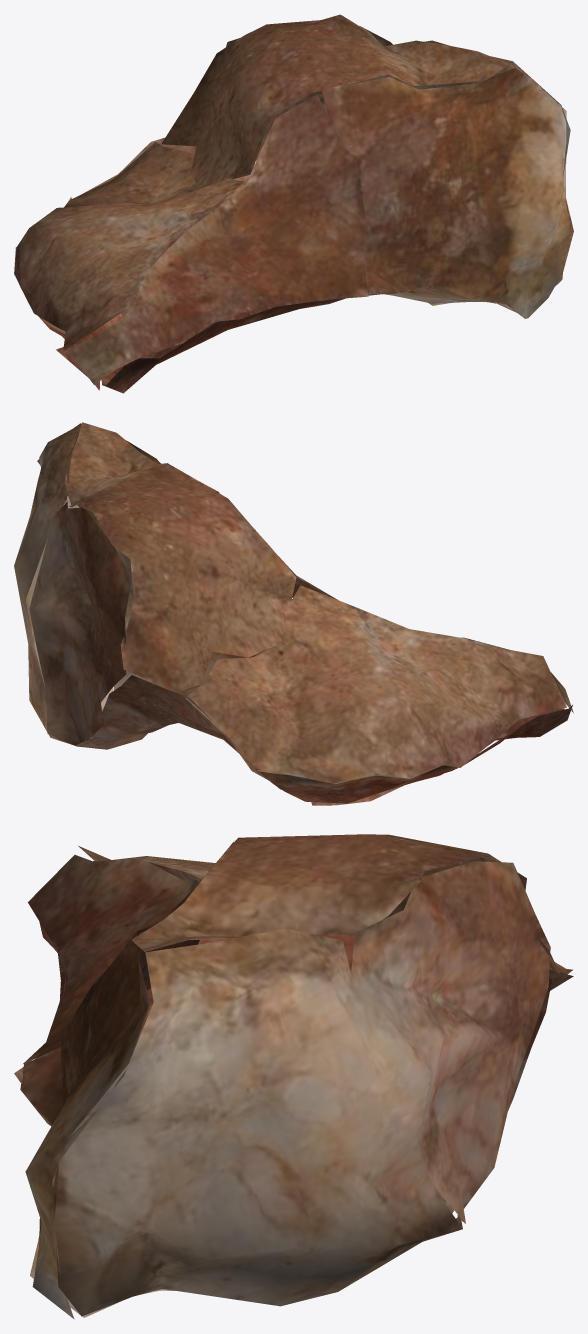
Rendered from stone_01.glb.
3 views of the same model, one above another, from view 1: azimuth 30°, elevation 25°; view 2: azimuth 150°, elevation 25°; view 3: azimuth 270°, elevation 25° (orthographic). The views are drawn at different scales.
Visible parts, largest first — view 1: v0; view 2: v0; view 3: v0.
Boxes of the visible parts, bbox=[...] form: v0: bbox=[14, 14, 573, 393]; v0: bbox=[14, 422, 573, 805]; v0: bbox=[14, 834, 573, 1319].
Bounding box in the file's own units: 1 × 0.482 × 0.604.
Materials: 1 (1 with a texture image).
